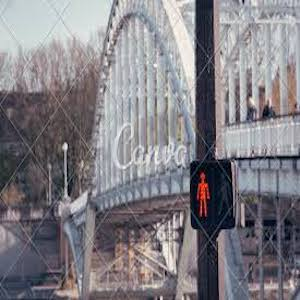red: (191, 166, 213, 220)
